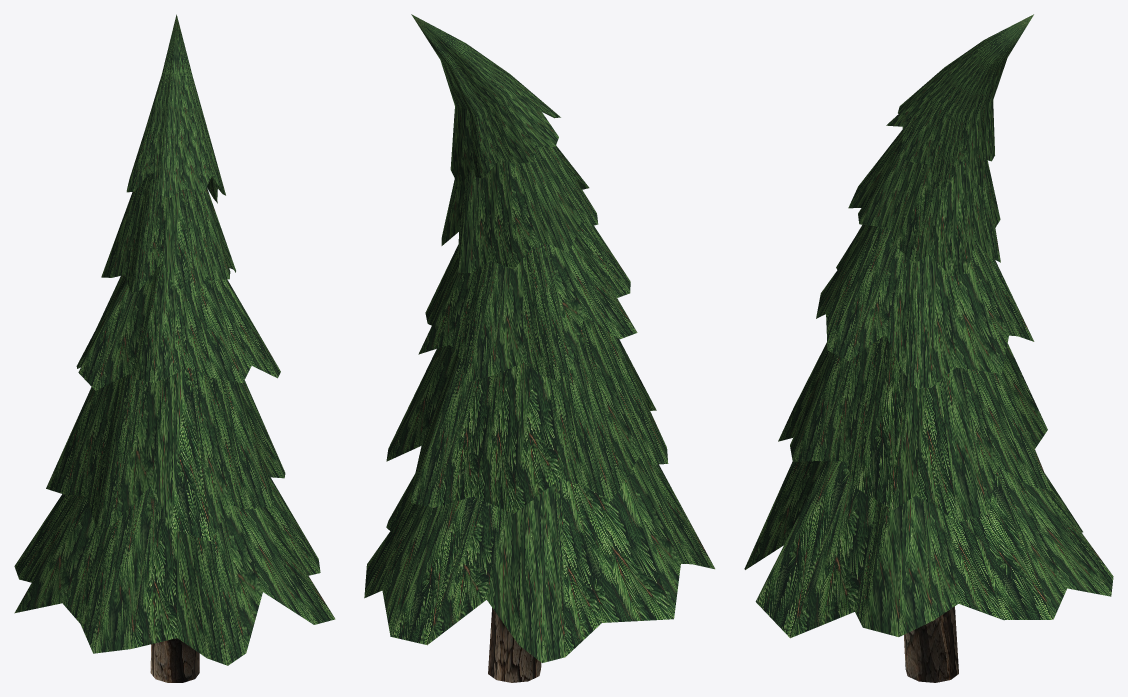
Rendered from TreeGroup003.fbx.
The picture shows the model from 3 angles, left to right: view 1: azimuth 30°, elevation 25°; view 2: azimuth 150°, elevation 25°; view 3: azimuth 270°, elevation 25°; orthographic projection. The views are drawn at different scales.
Parts seen in each view (by area): view 1: Resource_PineTree_Group.001; view 2: Resource_PineTree_Group.001; view 3: Resource_PineTree_Group.001.
Part boxes in pixels (bbox=[...]): Resource_PineTree_Group.001: bbox=[14, 14, 335, 682]; Resource_PineTree_Group.001: bbox=[364, 14, 714, 682]; Resource_PineTree_Group.001: bbox=[744, 14, 1113, 682].
Bounding box in the file's own units: 371 × 776 × 380.
2 materials, 2 textured.
